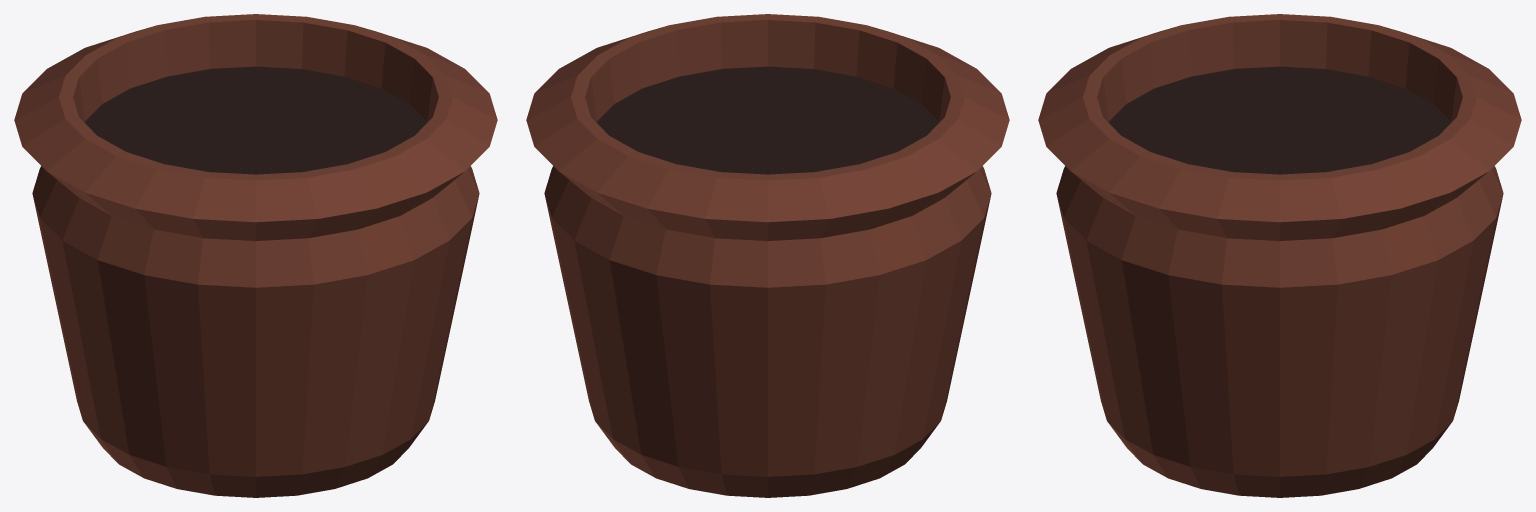
Rendered from MBJ_PlantPack01_Pot04_LOD3_v001.fbx.
The picture shows the model from 3 angles, left to right: view 1: azimuth 30°, elevation 25°; view 2: azimuth 150°, elevation 25°; view 3: azimuth 270°, elevation 25°; orthographic projection.
Parts seen in each view (by area): view 1: PlantPot04_C.001; view 2: PlantPot04_C.001; view 3: PlantPot04_C.001.
Part boxes in pixels (left/top/right/bottom): PlantPot04_C.001: left=14, top=14, right=497, bottom=497; PlantPot04_C.001: left=526, top=14, right=1009, bottom=497; PlantPot04_C.001: left=1038, top=14, right=1521, bottom=497.
Size of the model in its own units: 59.89 by 45.65 by 59.89.
